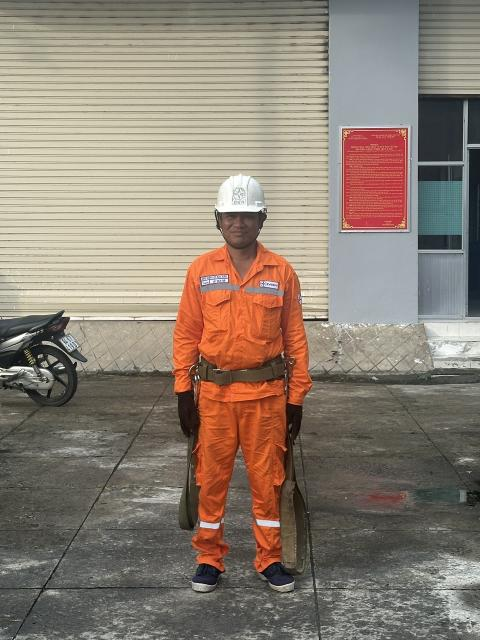gloves: (266, 392, 307, 452), (167, 387, 212, 441)
helmet: (208, 167, 278, 222)
shoes: (252, 553, 305, 599), (183, 558, 236, 601)
